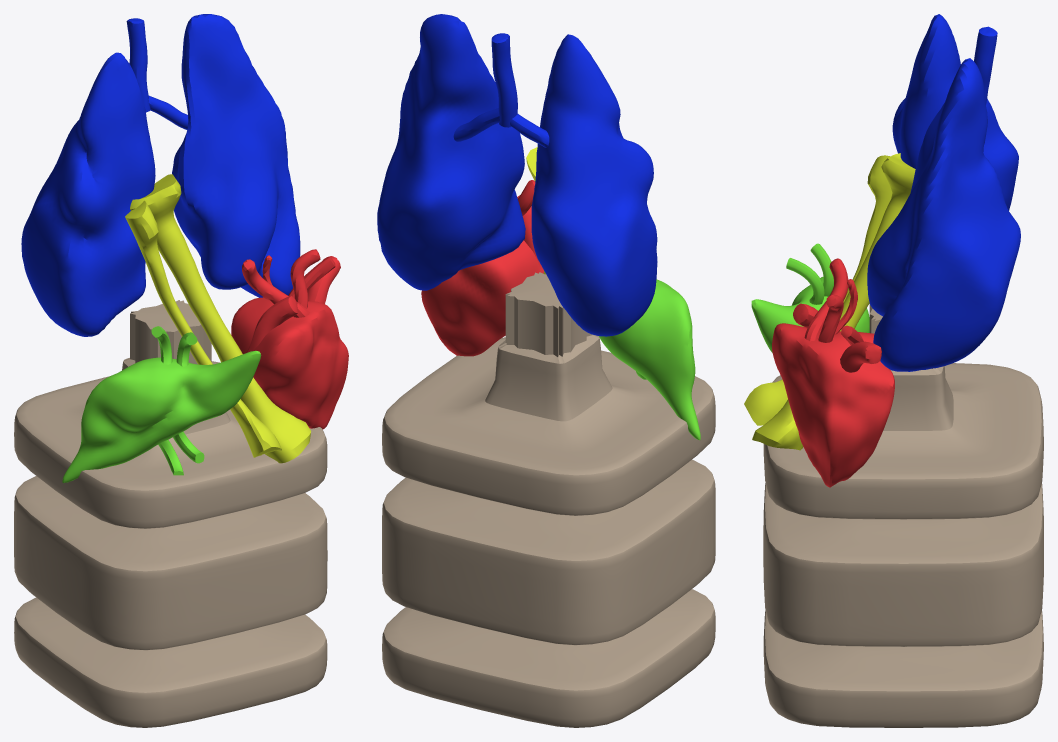
The model's file is T_COMODIN_06.fbx.
3 views of the same model, side by side, from view 1: azimuth 30°, elevation 25°; view 2: azimuth 150°, elevation 25°; view 3: azimuth 270°, elevation 25° (orthographic). The views are drawn at different scales.
Visible parts, largest first — view 1: COMODIN FINAL; view 2: COMODIN FINAL; view 3: COMODIN FINAL.
Part boxes in pixels (left/top/right/bottom): COMODIN FINAL: left=14, top=14, right=348, bottom=727; COMODIN FINAL: left=377, top=14, right=715, bottom=727; COMODIN FINAL: left=744, top=14, right=1043, bottom=727.
Size of the model in its own units: 59.68 by 53.32 by 127.
